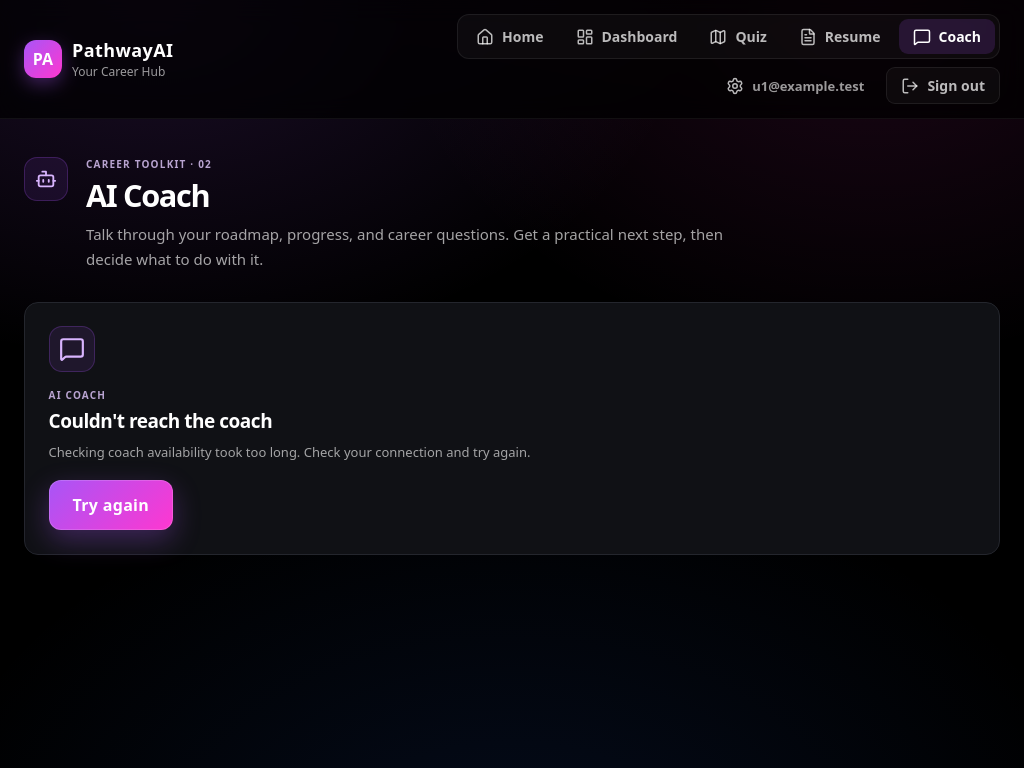
Test: /coach access › times out a stalled availability check and retries
Check: the text "Checking coach availability took too long. Check your connection and try again." is shown, box [48,442,530,463]
Click the button "Try again" at (111, 505), box [48,480,173,530]
(page scrolled)
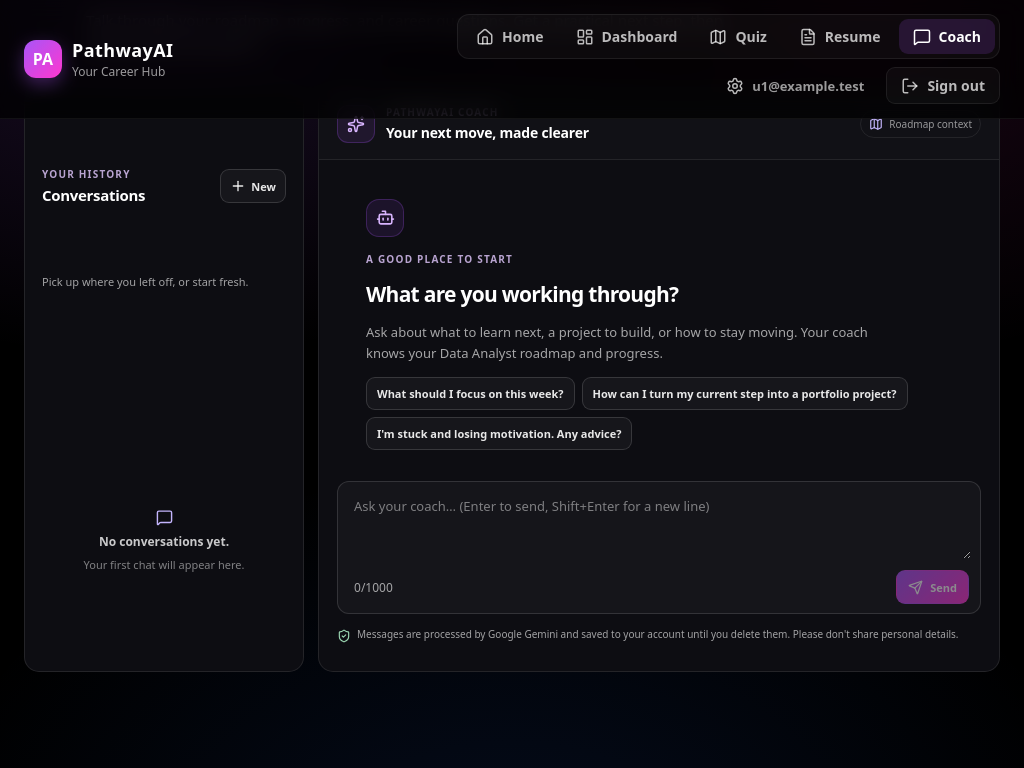
Check: the text box named "Message the coach" is shown, box [347,492,971,560]
